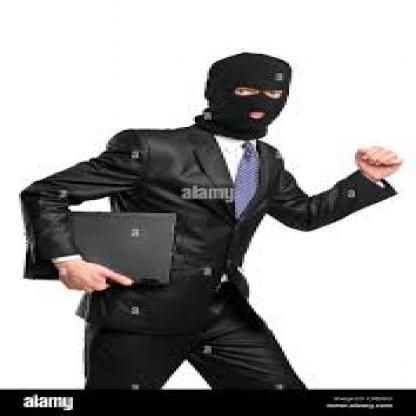criminal: (20, 51, 403, 390)
